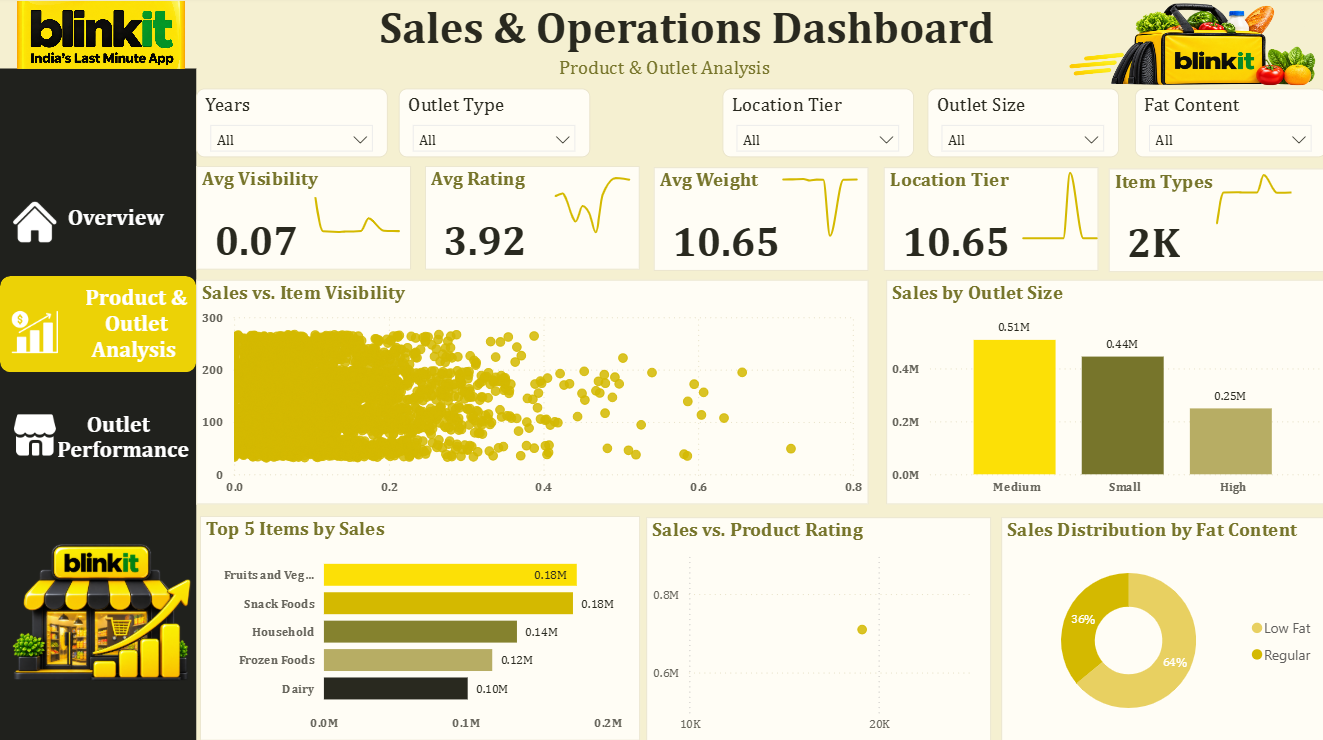

The page's visual inventory and layout, read from the dashboard file:
{"tool":"powerbi","page":{"name":"Product & Outlet Analysis","canvas":[1280,720],"ordinal":1},"visuals":[{"type":"shape","box":[0,273.9,189.4,83.2],"z":0},{"type":"shape","box":[0,0,1280,143.6],"z":1000},{"type":"shape","box":[0,70,189.4,650.3],"z":2000},{"type":"slicer","title":"Location Tier","fields":{"Values":["BlinkIT_Grocery_Data.Outlet Location Type"]},"box":[697.3,89.3,184.6,66],"z":3000},{"type":"slicer","title":"Years","fields":{"Values":["BlinkIT_Grocery_Data.Outlet Establishment Year"]},"box":[189.4,89.3,184.6,66],"z":4000},{"type":"slicer","title":"Outlet Type","fields":{"Values":["BlinkIT_Grocery_Data.Outlet Type"]},"box":[384.9,89.3,184.6,66],"z":5000},{"type":"slicer","title":"Outlet Size","fields":{"Values":["BlinkIT_Grocery_Data.Outlet Size"]},"box":[895.2,89.3,184.6,66],"z":6000},{"type":"slicer","title":"Fat Content","fields":{"Values":["BlinkIT_Grocery_Data.Item Fat Content"]},"box":[1095.4,89.3,184.6,66],"z":7000},{"type":"textbox","box":[246.1,0,833.7,78.4],"z":8000},{"type":"textbox","box":[521.2,53.1,240.1,35],"z":9000},{"type":"image","box":[1021.9,0,258.2,94.1],"z":10000},{"type":"image","box":[0,0,195,75],"z":11000},{"type":"cardVisual","title":"Avg Visibility","fields":{"Data":["Measure.AVG VISIBILITY"]},"box":[189.4,164.1,207.5,100.1],"z":12000},{"type":"cardVisual","title":"Avg Rating","fields":{"Data":["Measure.AVG RATING"]},"box":[410.2,164.1,207.5,100.1],"z":13000},{"type":"cardVisual","title":"Avg Weight","fields":{"Data":["Measure.AVG ITEM WEIGHT"]},"box":[631,165.8,207.5,100.1],"z":14000},{"type":"cardVisual","title":"Location Tier","fields":{"Data":["Measure.AVG ITEM WEIGHT"]},"box":[853,165.8,207.5,100.1],"z":15000},{"type":"cardVisual","title":"Item Types","fields":{"Data":["Measure.TOTAL ITEMS"]},"box":[1070.1,167,208,100.1],"z":16000},{"type":"scatterChart","title":"Sales vs. Item Visibility","fields":{"X":["Sum(BlinkIT_Grocery_Data.Item Visibility)"],"Y":["BlinkIT_Grocery_Data.Sales"]},"box":[189.4,273.9,649.1,217.2],"z":17000},{"type":"clusteredColumnChart","title":"Sales by Outlet Size","fields":{"Y":["Measure.TOTAL SALES"],"Category":["BlinkIT_Grocery_Data.Outlet Size"]},"box":[855.4,273.9,424.7,217.2],"z":18000},{"type":"barChart","title":"Top 5 Items by Sales","fields":{"Y":["Measure.TOTAL SALES"],"Category":["BlinkIT_Grocery_Data.Item Type"]},"box":[193,501.9,424.7,217.2],"z":19000},{"type":"scatterChart","title":"Sales vs. Product Rating","fields":{"Y":["Measure.TOTAL SALES"],"X":["Sum(BlinkIT_Grocery_Data.Rating)"]},"box":[623.7,503.1,333,217.2],"z":20000},{"type":"donutChart","title":"Sales Distribution by Fat Content","fields":{"Y":["Measure.TOTAL SALES"],"Category":["BlinkIT_Grocery_Data.Item Fat Content"]},"box":[966.4,503.1,313.7,217.2],"z":21000},{"type":"textbox","box":[60.3,196.6,115.8,43.4],"z":22000},{"type":"image","box":[6,190.6,55,55],"z":23000},{"type":"image","box":[6,395.7,55,55],"z":24000},{"type":"textbox","box":[41,395.7,155.6,62.7],"z":25000},{"type":"lineChart","fields":{"Y":["Measure.AVG VISIBILITY"],"Category":["BlinkIT_Grocery_Data.Outlet Establishment Year"]},"box":[282.3,166.5,139.9,83.2],"z":26000},{"type":"lineChart","fields":{"Category":["BlinkIT_Grocery_Data.Outlet Establishment Year"],"Y":["Measure.AVG RATING"]},"box":[515.2,154.4,126.7,83.2],"z":27000},{"type":"lineChart","fields":{"Category":["BlinkIT_Grocery_Data.Outlet Establishment Year"],"Y":["Measure.AVG ITEM WEIGHT"]},"box":[734.7,154.4,126.7,83.2],"z":28000},{"type":"lineChart","fields":{"Category":["BlinkIT_Grocery_Data.Outlet Establishment Year"],"Y":["Measure.TOTAL LOCATION"]},"box":[966.4,156.8,126.7,83.2],"z":29000},{"type":"lineChart","fields":{"Category":["BlinkIT_Grocery_Data.Outlet Establishment Year"],"Y":["Measure.TOTAL ITEMS"]},"box":[1153.4,154.4,126.7,83.2],"z":30000},{"type":"image","box":[0,491,200.3,200.3],"z":31000},{"type":"shape","box":[0,270.2,189.4,92.9],"z":32000},{"type":"image","box":[6,296.8,55,55],"z":33000},{"type":"textbox","box":[73.6,273.9,115.8,92.9],"z":34000},{"type":"actionButton","box":[0,170.6,189.4,83.2],"z":35000},{"type":"actionButton","box":[0,270.2,189.4,92.9],"z":36000},{"type":"actionButton","box":[0,386.1,189.4,83.2],"z":37000}]}

Visuals, with their boxes in screenshot pixels (x1, y1, x2, y2), scaled from the page's 1280x720 canvas onto the 1323x740 screenshot:
shape: [left=0, top=282, right=196, bottom=367]
shape: [left=0, top=0, right=1322, bottom=148]
shape: [left=0, top=72, right=196, bottom=739]
"Location Tier" slicer: [left=721, top=92, right=912, bottom=160]
"Years" slicer: [left=196, top=92, right=387, bottom=160]
"Outlet Type" slicer: [left=398, top=92, right=589, bottom=160]
"Outlet Size" slicer: [left=925, top=92, right=1116, bottom=160]
"Fat Content" slicer: [left=1132, top=92, right=1322, bottom=160]
textbox: [left=254, top=0, right=1116, bottom=81]
textbox: [left=539, top=55, right=787, bottom=91]
image: [left=1056, top=0, right=1322, bottom=97]
image: [left=0, top=0, right=202, bottom=77]
"Avg Visibility" cardVisual: [left=196, top=169, right=410, bottom=272]
"Avg Rating" cardVisual: [left=424, top=169, right=638, bottom=272]
"Avg Weight" cardVisual: [left=652, top=170, right=867, bottom=273]
"Location Tier" cardVisual: [left=882, top=170, right=1096, bottom=273]
"Item Types" cardVisual: [left=1106, top=172, right=1321, bottom=275]
"Sales vs. Item Visibility" scatterChart: [left=196, top=282, right=867, bottom=505]
"Sales by Outlet Size" clusteredColumnChart: [left=884, top=282, right=1322, bottom=505]
"Top 5 Items by Sales" barChart: [left=199, top=516, right=638, bottom=739]
"Sales vs. Product Rating" scatterChart: [left=645, top=517, right=989, bottom=739]
"Sales Distribution by Fat Content" donutChart: [left=999, top=517, right=1322, bottom=739]
textbox: [left=62, top=202, right=182, bottom=247]
image: [left=6, top=196, right=63, bottom=252]
image: [left=6, top=407, right=63, bottom=463]
textbox: [left=42, top=407, right=203, bottom=471]
lineChart - Measure.AVG VISIBILITY x BlinkIT_Grocery_Data.Outlet Establishment Year: [left=292, top=171, right=436, bottom=257]
lineChart - BlinkIT_Grocery_Data.Outlet Establishment Year x Measure.AVG RATING: [left=533, top=159, right=663, bottom=244]
lineChart - BlinkIT_Grocery_Data.Outlet Establishment Year x Measure.AVG ITEM WEIGHT: [left=759, top=159, right=890, bottom=244]
lineChart - BlinkIT_Grocery_Data.Outlet Establishment Year x Measure.TOTAL LOCATION: [left=999, top=161, right=1130, bottom=247]
lineChart - BlinkIT_Grocery_Data.Outlet Establishment Year x Measure.TOTAL ITEMS: [left=1192, top=159, right=1322, bottom=244]
image: [left=0, top=505, right=207, bottom=711]
shape: [left=0, top=278, right=196, bottom=373]
image: [left=6, top=305, right=63, bottom=362]
textbox: [left=76, top=282, right=196, bottom=377]
actionButton: [left=0, top=175, right=196, bottom=261]
actionButton: [left=0, top=278, right=196, bottom=373]
actionButton: [left=0, top=397, right=196, bottom=482]
